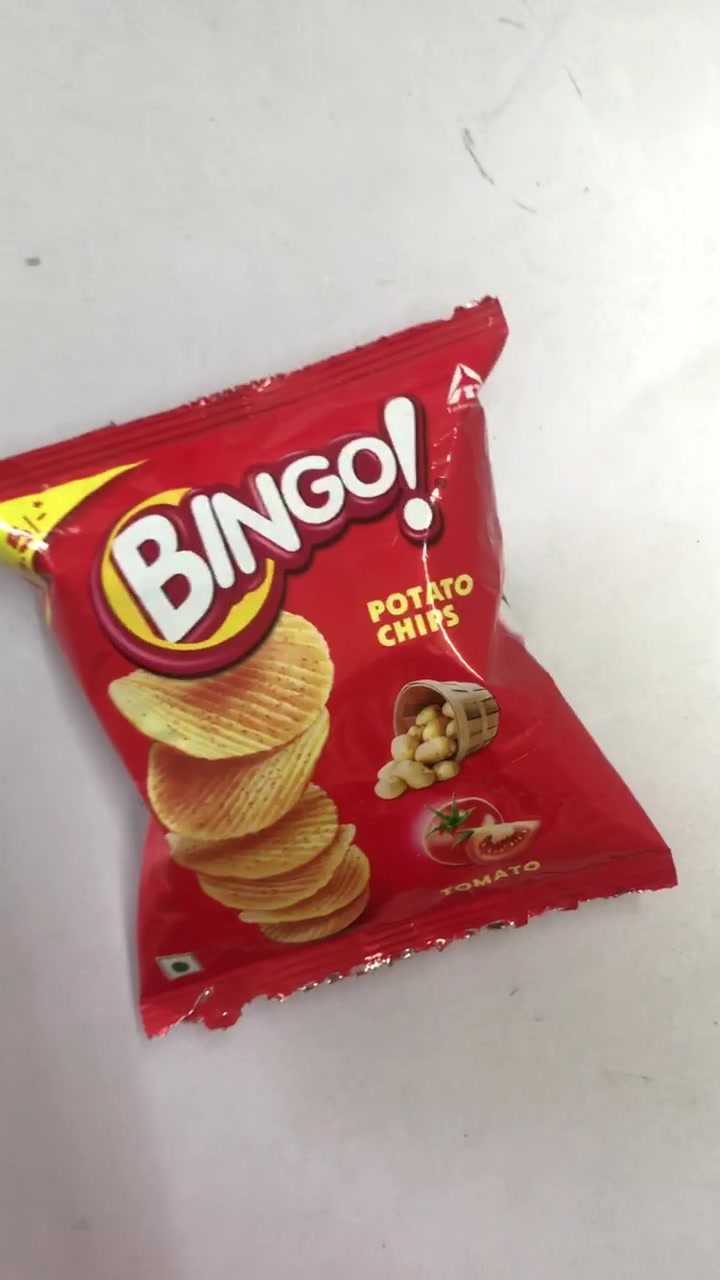Bingo: (10, 310, 676, 1006)
